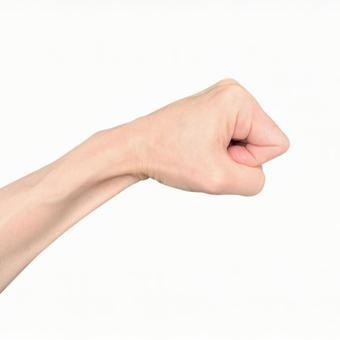gu-: (147, 77, 291, 197)
